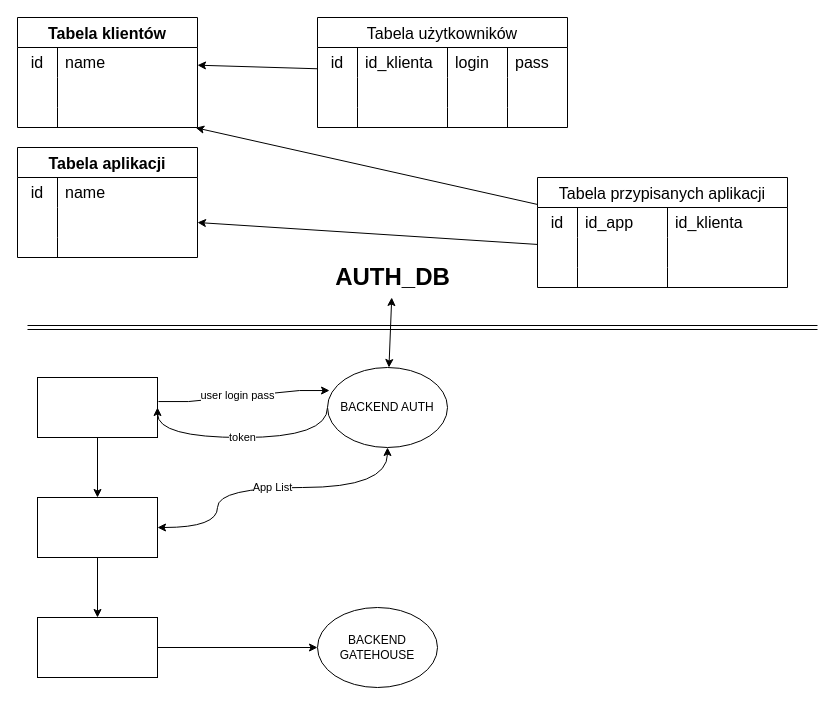
Some shapes in this 835 by 705 pixel diagram are drawn without their labels. Here are the shapes that lost their labels. From the top down, the centre of each, then its label:
(x=97, y=407): AUTH
(x=97, y=527): DASHBOARD
(x=97, y=647): GATEHOUSE
